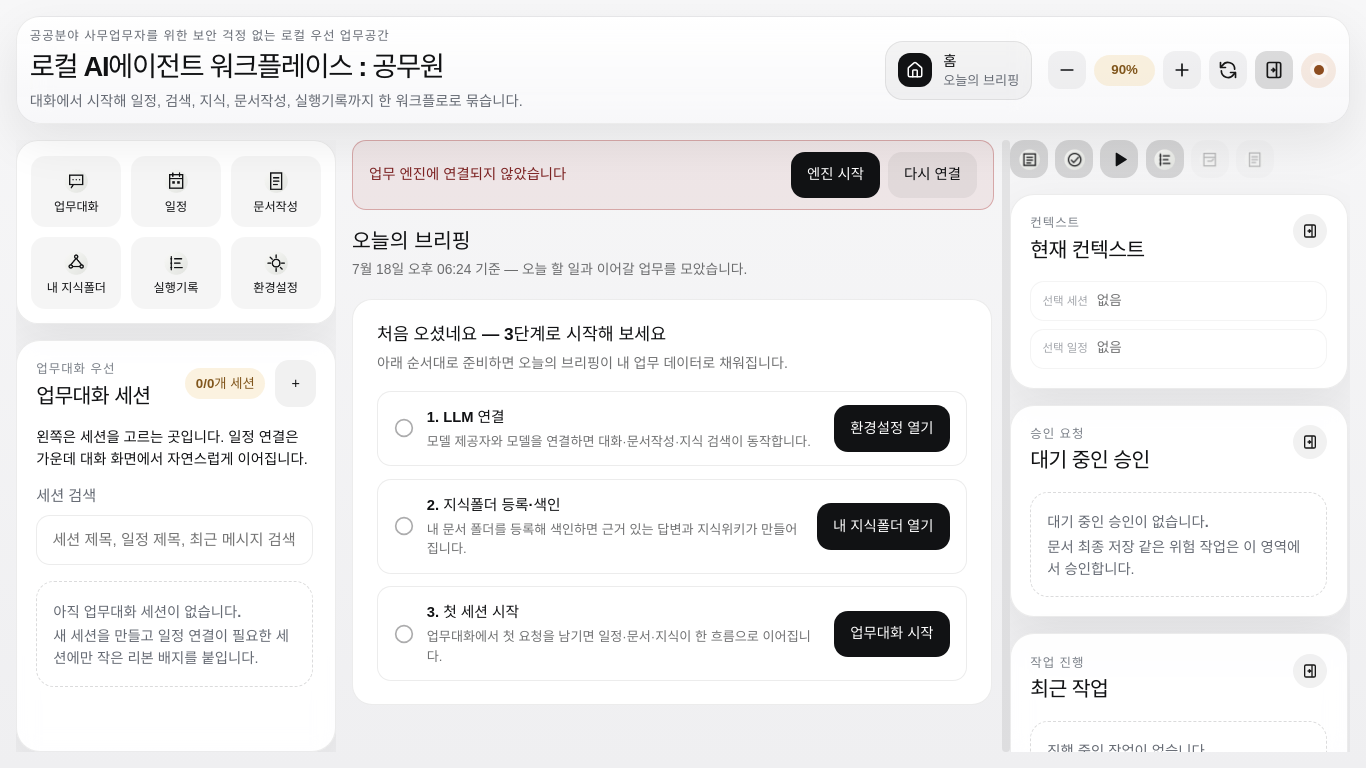
Test case: chat onboarding (J-01 / J-02) › creates a session straight from the empty-state CTA (J-01)
Click the button "업무대화". click: (76, 192)
box: [31,156,121,227]
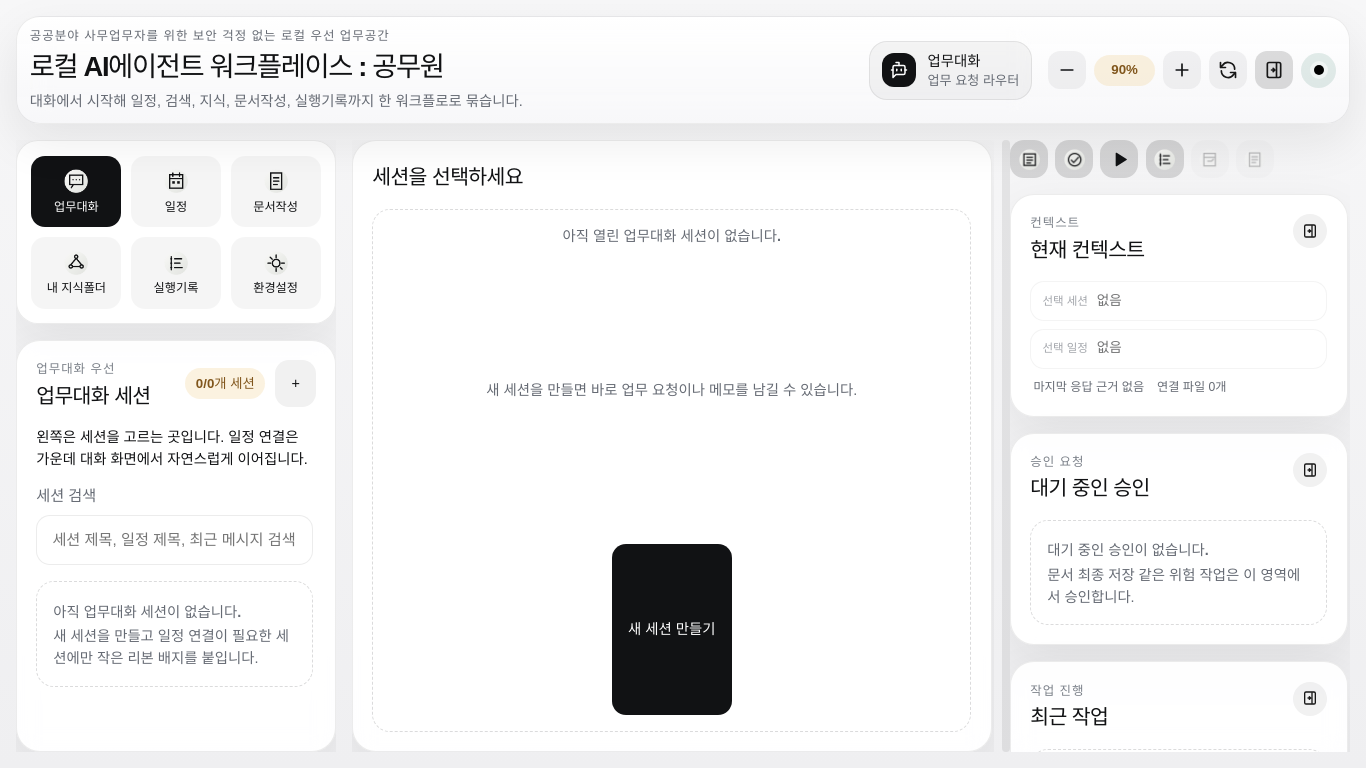
Expected: the element with test id "chat-empty-cta" does not show "왼쪽 상단", [372,209,971,732]
Now the button with test id "chat-create-session-cta" is shown
Now the element with test id "chat-empty-cta" shows "아직 열린 업무대화 세션이 없습니다.", box [562,228,781,244]
Click the button with test id "chat-create-session-cta". click: (672, 630)
box: [612,544,732,715]
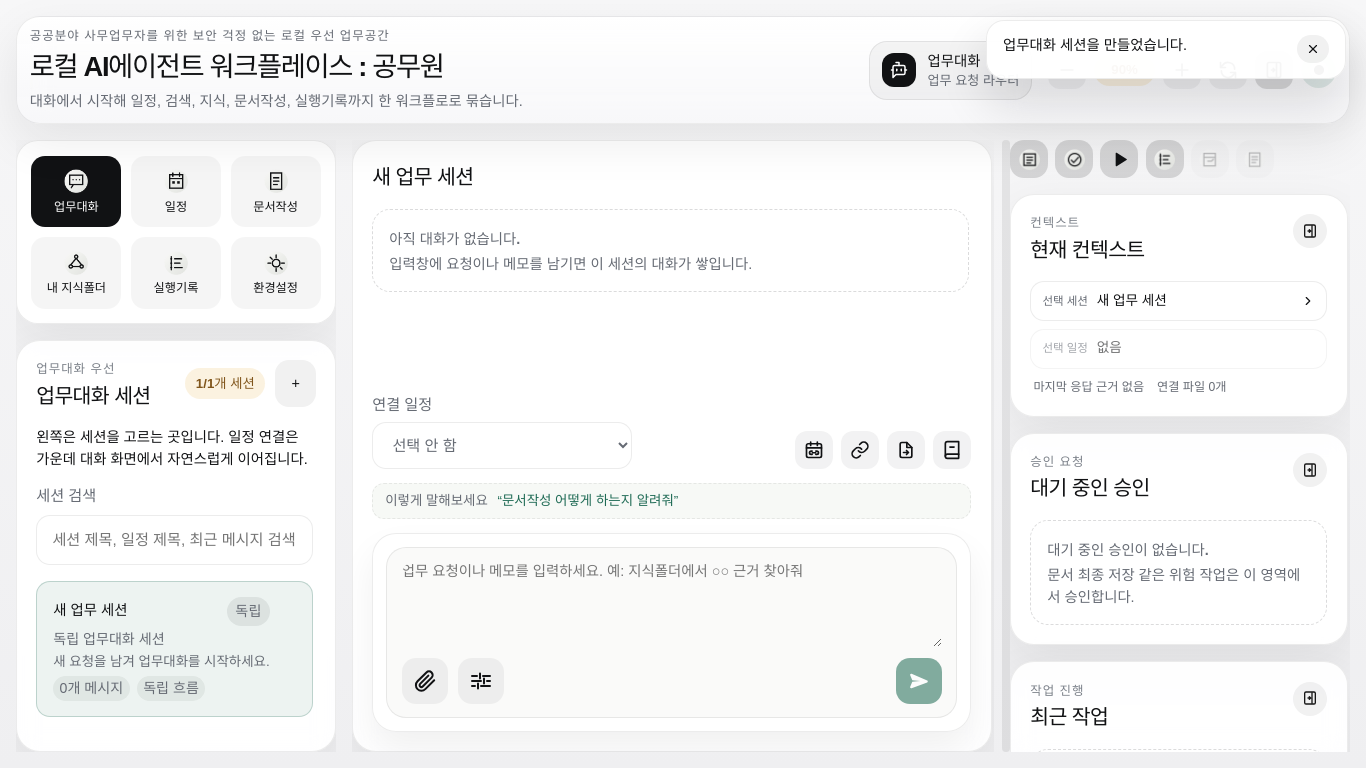
Now the element with test id "chat-workspace" is shown, box [372,209,971,732]
Now the heading "새 업무 세션" is shown, box [372,162,473,193]
